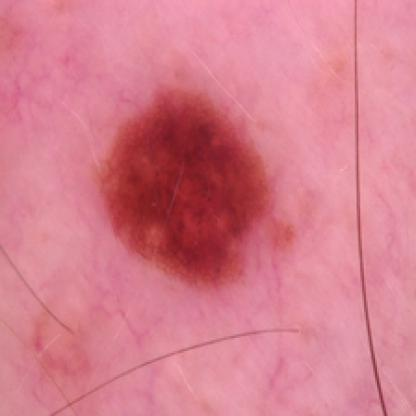benign: (97, 100, 299, 280)
